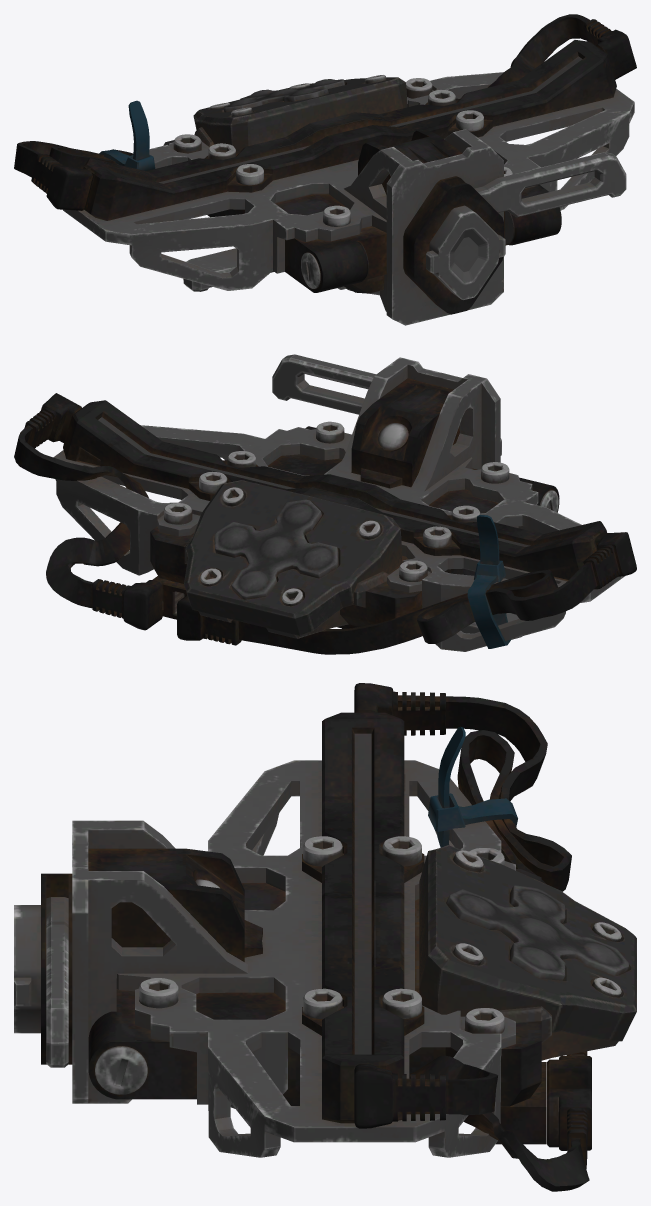
Rendered from Screen_3.glb.
3 renders of one model, top to bottom at view 1: azimuth 30°, elevation 25°; view 2: azimuth 150°, elevation 25°; view 3: azimuth 270°, elevation 25°, orthographic. The views are drawn at different scales.
Visible parts, largest first — view 1: Screen_3; view 2: Screen_3; view 3: Screen_3.
Part boxes in pixels (bbox=[...]): Screen_3: bbox=[14, 14, 636, 325]; Screen_3: bbox=[14, 354, 636, 654]; Screen_3: bbox=[14, 683, 636, 1191].
Bounding box in the file's own units: 0.1349 × 0.0391 × 0.0885.
Materials: 1 (1 with a texture image).
